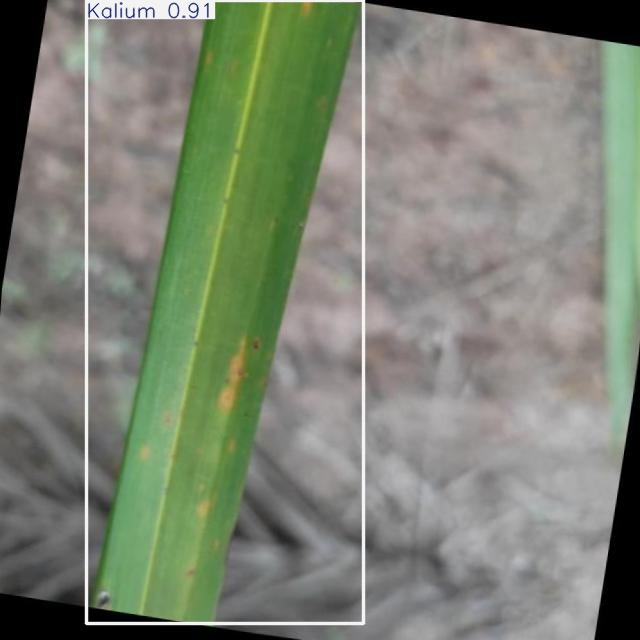Kalium: (87, 0, 363, 623)
